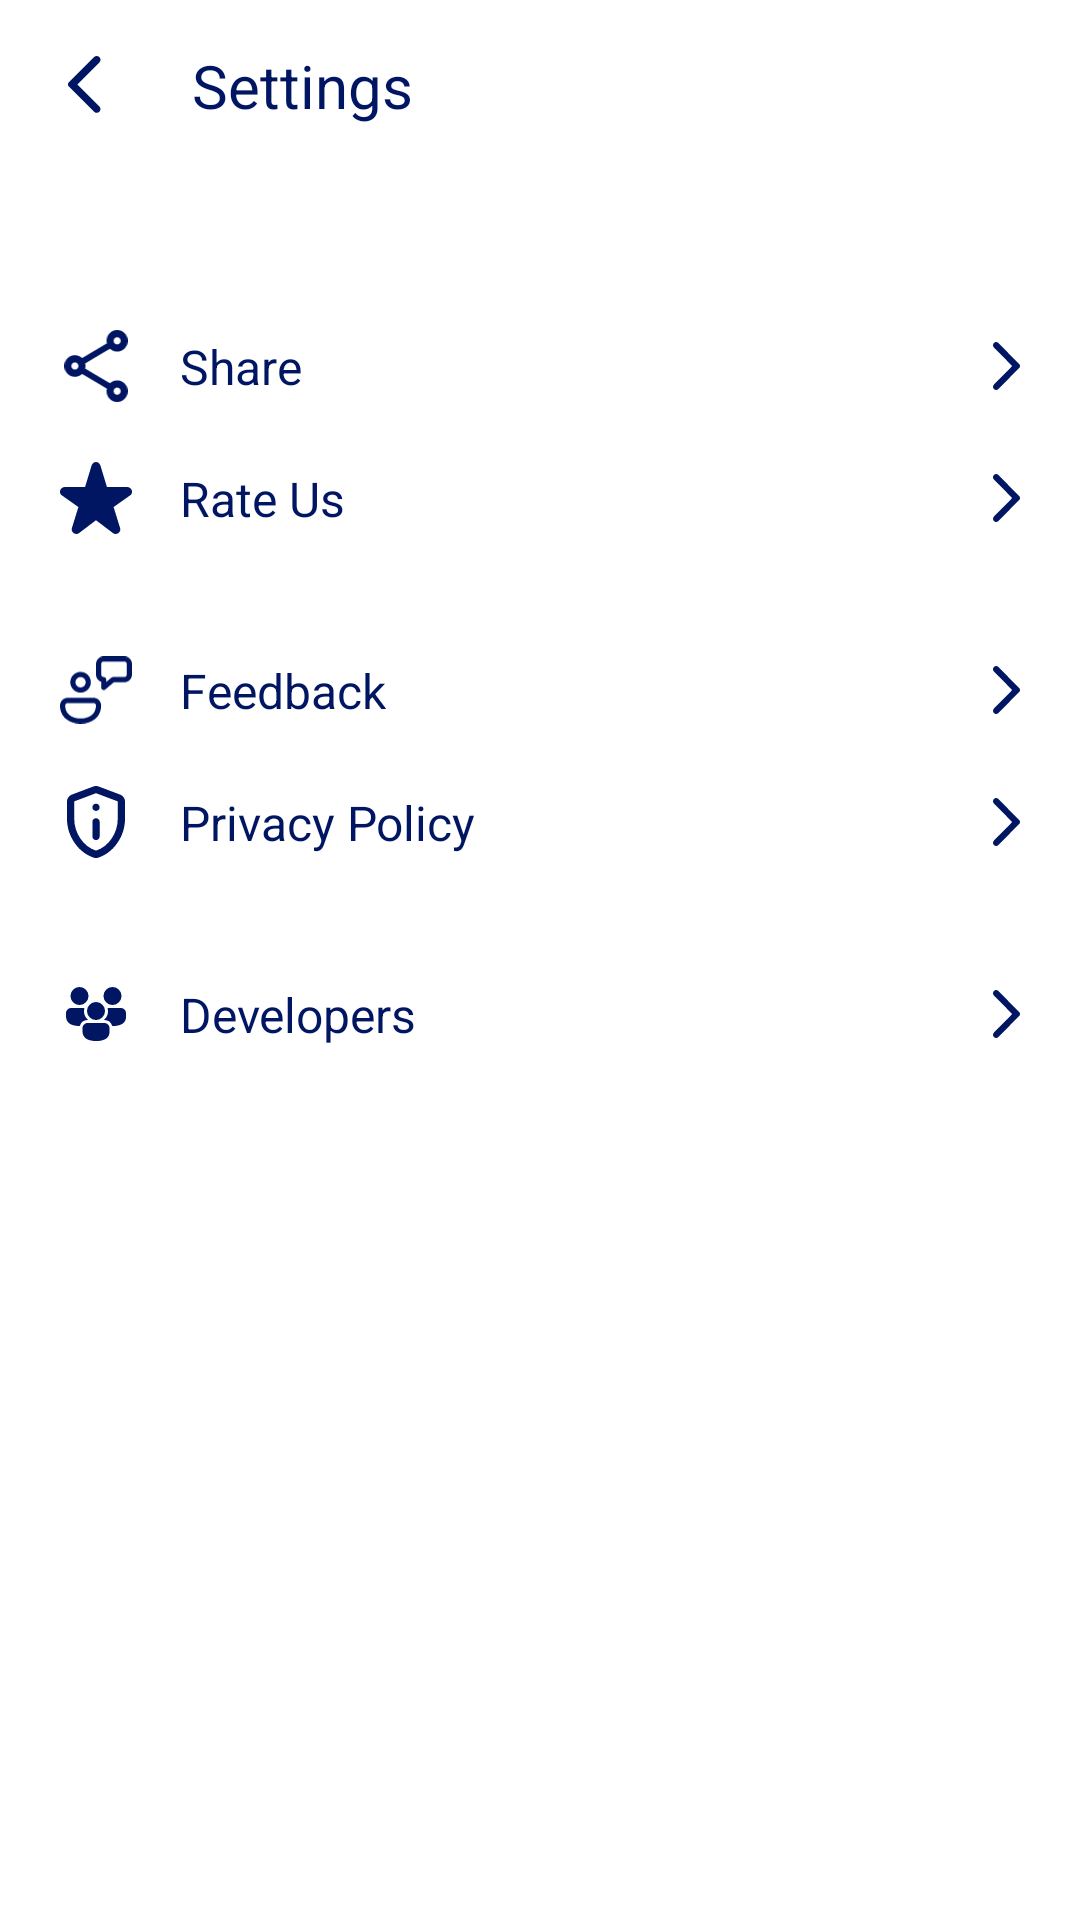

Icon bounding boxes for this 1080 × 1920 phone screenshot, format region(x1, y1, x2, y2):
arrow back: region(68, 56, 101, 113)
arrow right: region(993, 342, 1020, 390), region(993, 474, 1020, 522), region(993, 666, 1020, 714), region(993, 798, 1020, 846), region(993, 990, 1020, 1038)
